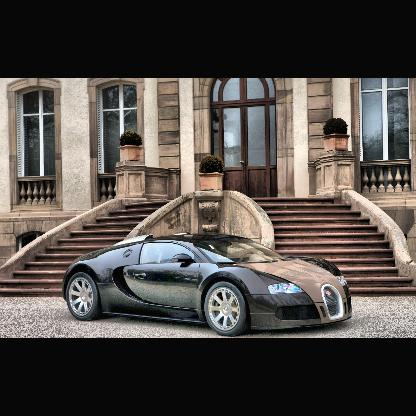Bugatti Veyron 16-4 Coupe 2009: (64, 233, 353, 335)
